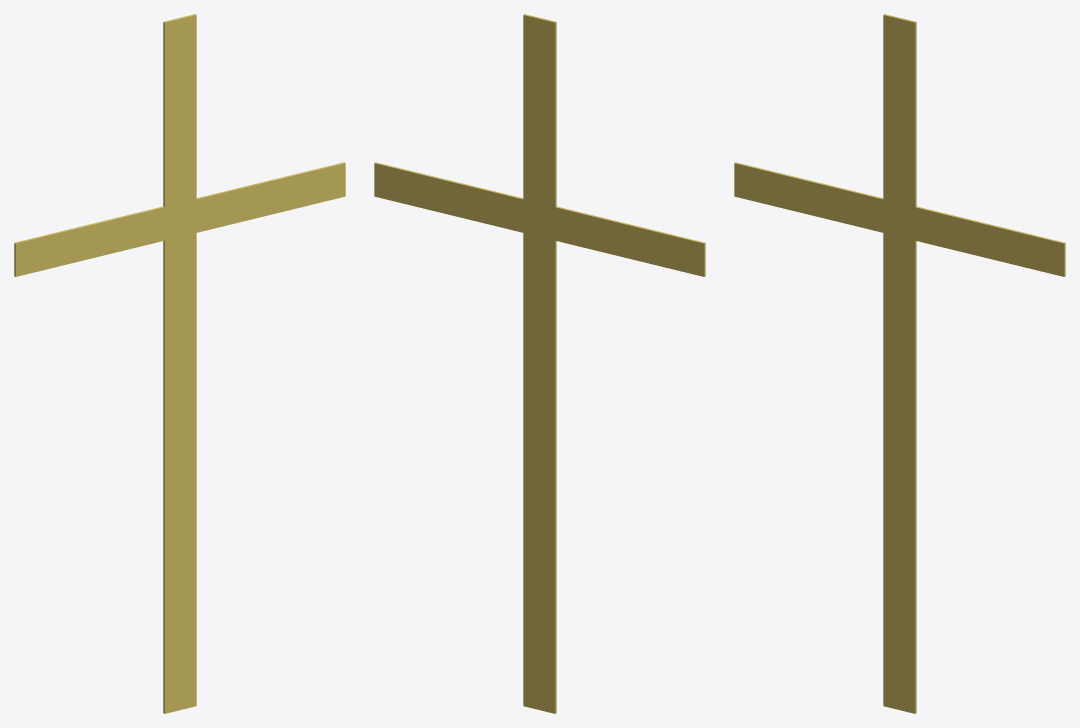
Rendered from cross.fbx.
The picture shows the model from 3 angles, left to right: view 1: azimuth 30°, elevation 25°; view 2: azimuth 150°, elevation 25°; view 3: azimuth 330°, elevation 25°; orthographic projection.
Parts seen in each view (by area): view 1: cross; view 2: cross; view 3: cross.
Boxes of the visible parts, x1=… form: cross: x1=14, y1=14, x2=345, y2=713; cross: x1=374, y1=14, x2=705, y2=713; cross: x1=734, y1=14, x2=1065, y2=713.
Size of the model in its own units: 97.17 by 194 by 0.6613.
